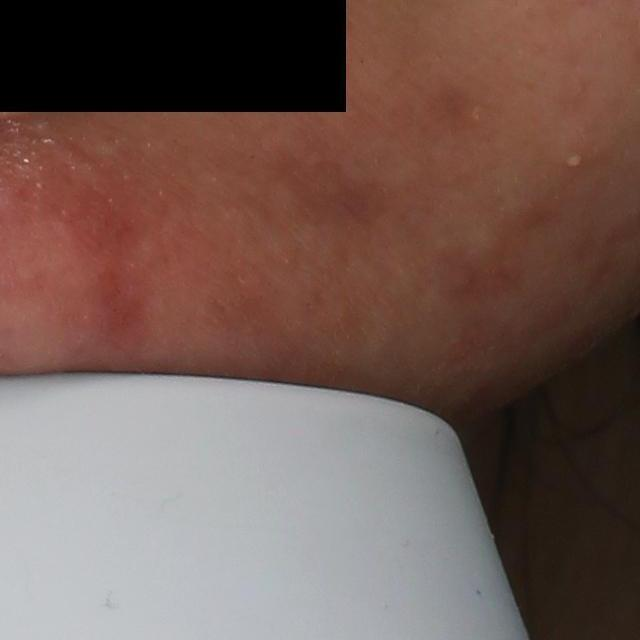pustule: (561, 151, 586, 172)
